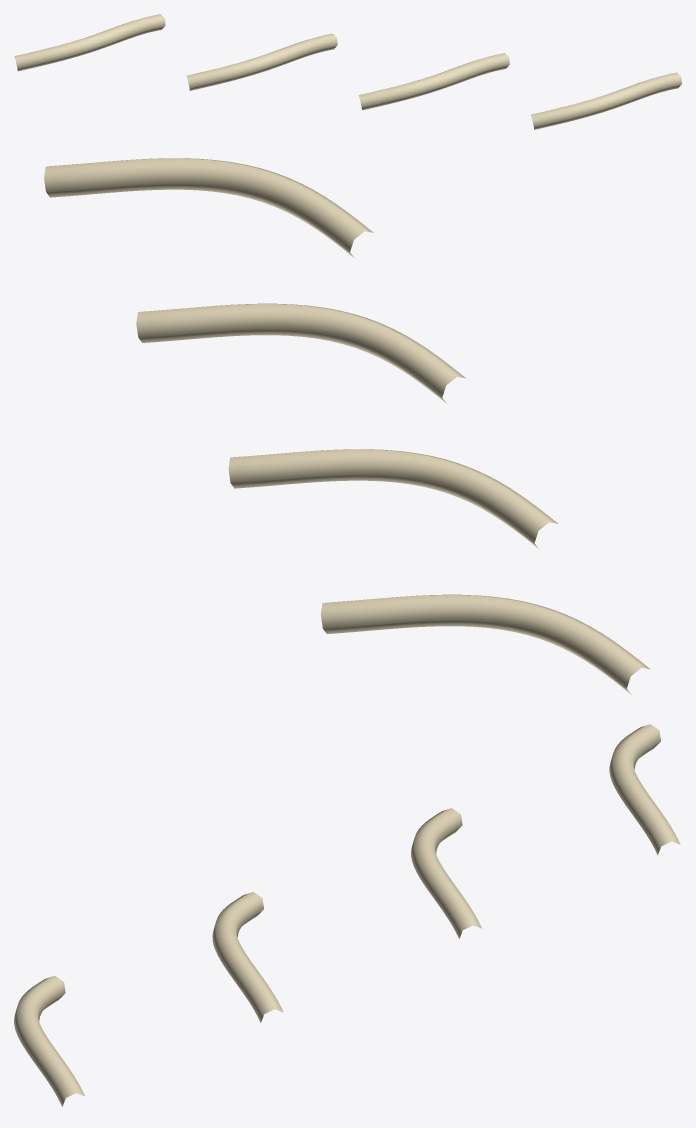
The model's file is caesar.glb.
3 renders of one model, top to bottom at view 1: azimuth 30°, elevation 25°; view 2: azimuth 150°, elevation 25°; view 3: azimuth 270°, elevation 25°, orthographic. The views are drawn at different scales.
Bounding box in the file's own units: 1.28 × 0.061 × 0.9761.
